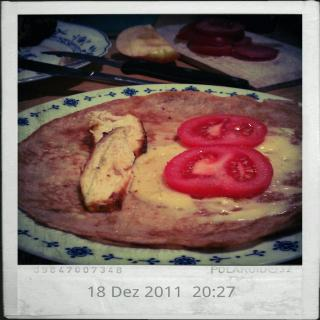tomato: (160, 148, 280, 205), (177, 114, 267, 148)
